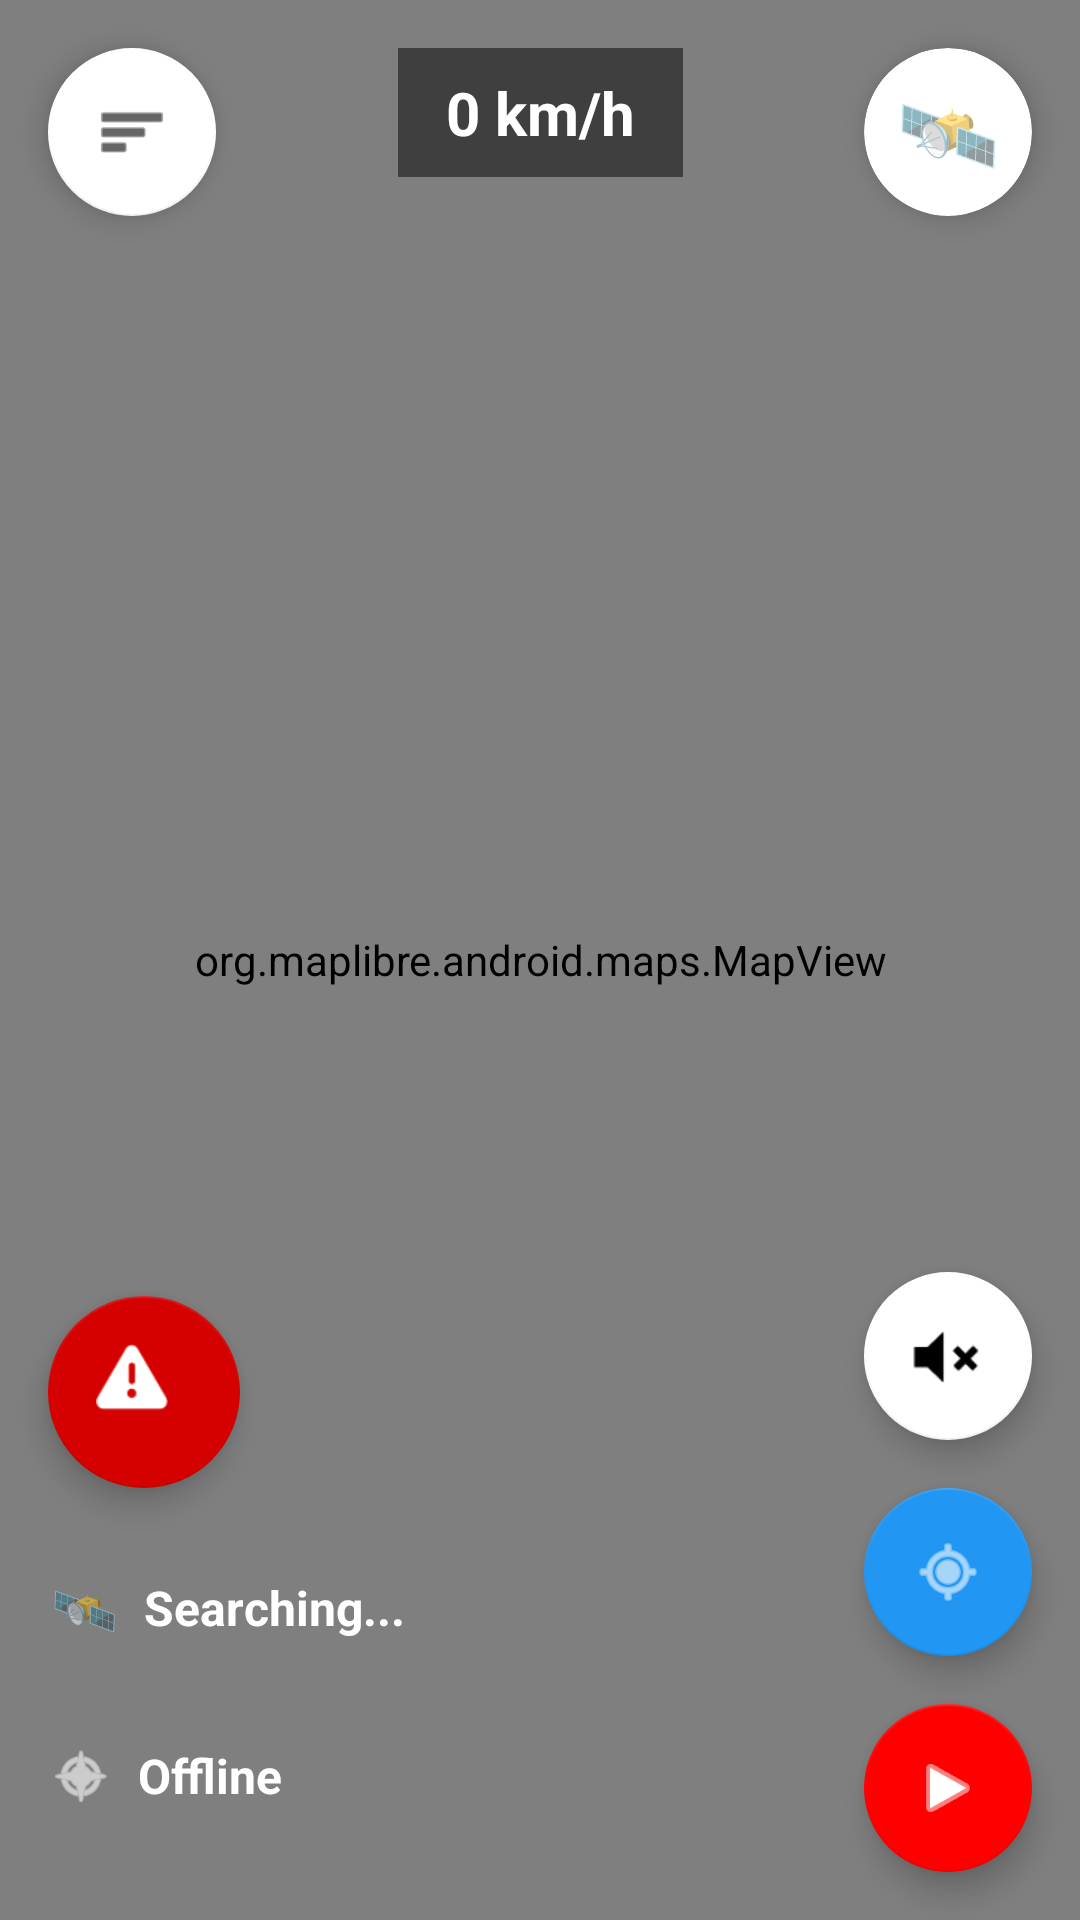

Screen size 1080px x 1920px. Icon name, then its center in pixels as point (x, y):
alert: point (144, 1392)
lock silent mode: point (948, 1356)
mylocation: point (948, 1572)
play: point (948, 1788)
sort by size: point (132, 132)
